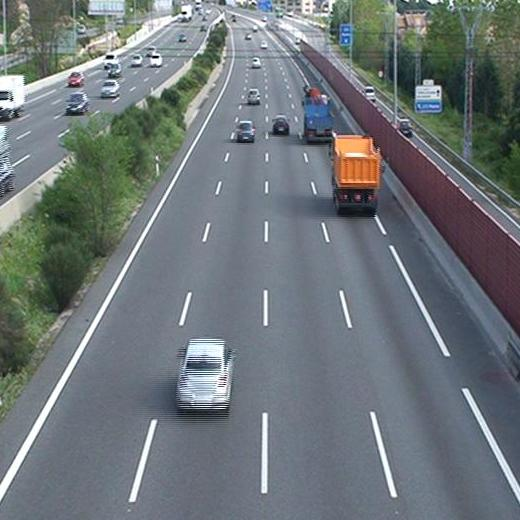car: (174, 339, 235, 412), (271, 114, 291, 135), (237, 121, 255, 142), (247, 88, 261, 105), (250, 56, 262, 69)
small-truck: (330, 132, 381, 219), (301, 88, 334, 140)
